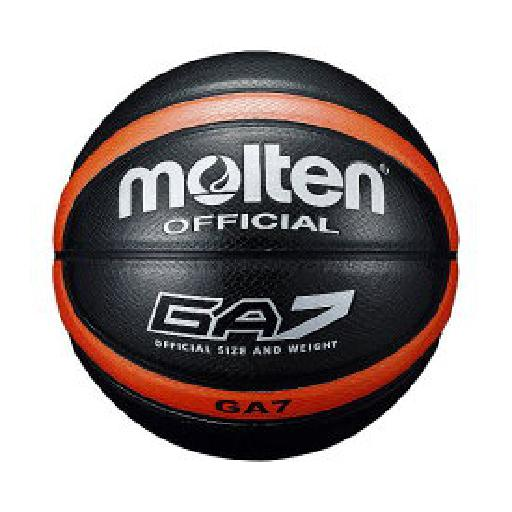ball: (53, 52, 458, 459)
